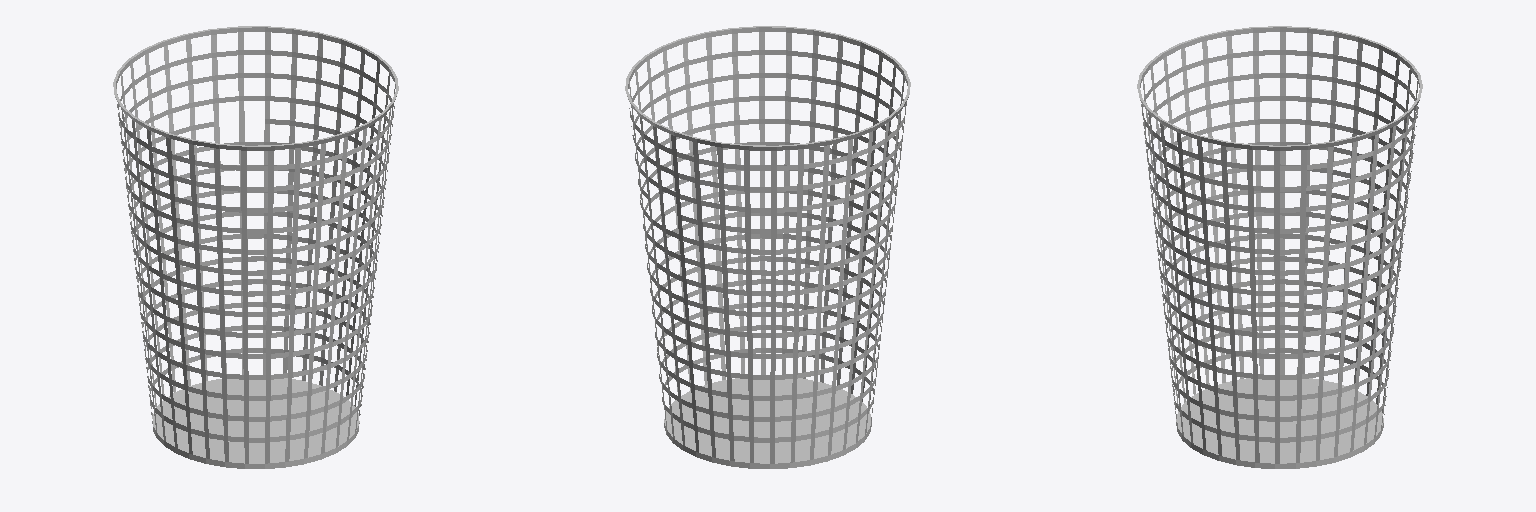
File: TrashCan1.obj
The picture shows the model from 3 angles: view 1: azimuth 30°, elevation 25°; view 2: azimuth 150°, elevation 25°; view 3: azimuth 270°, elevation 25°; orthographic projection.
Size of the model in its own units: 7.31 by 9.55 by 7.31.